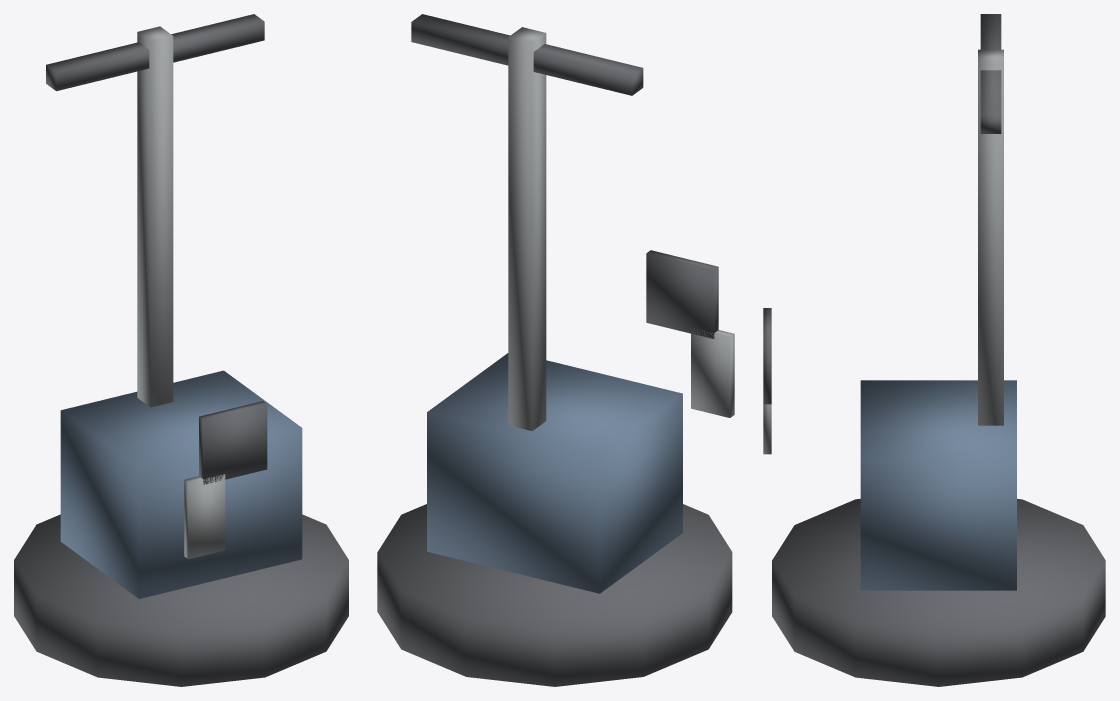
File: floor_buffer__weathered.glb
The picture shows the model from 3 angles, left to right: view 1: azimuth 30°, elevation 25°; view 2: azimuth 150°, elevation 25°; view 3: azimuth 270°, elevation 25°; orthographic projection. The views are drawn at different scales.
Visible parts, largest first — view 1: world; view 2: world; view 3: world.
Boxes of the visible parts, bbox=[...] form: world: bbox=[14, 14, 348, 686]; world: bbox=[377, 14, 734, 686]; world: bbox=[763, 14, 1105, 686].
Size of the model in its own units: 0.64 by 1.19 by 0.657.
